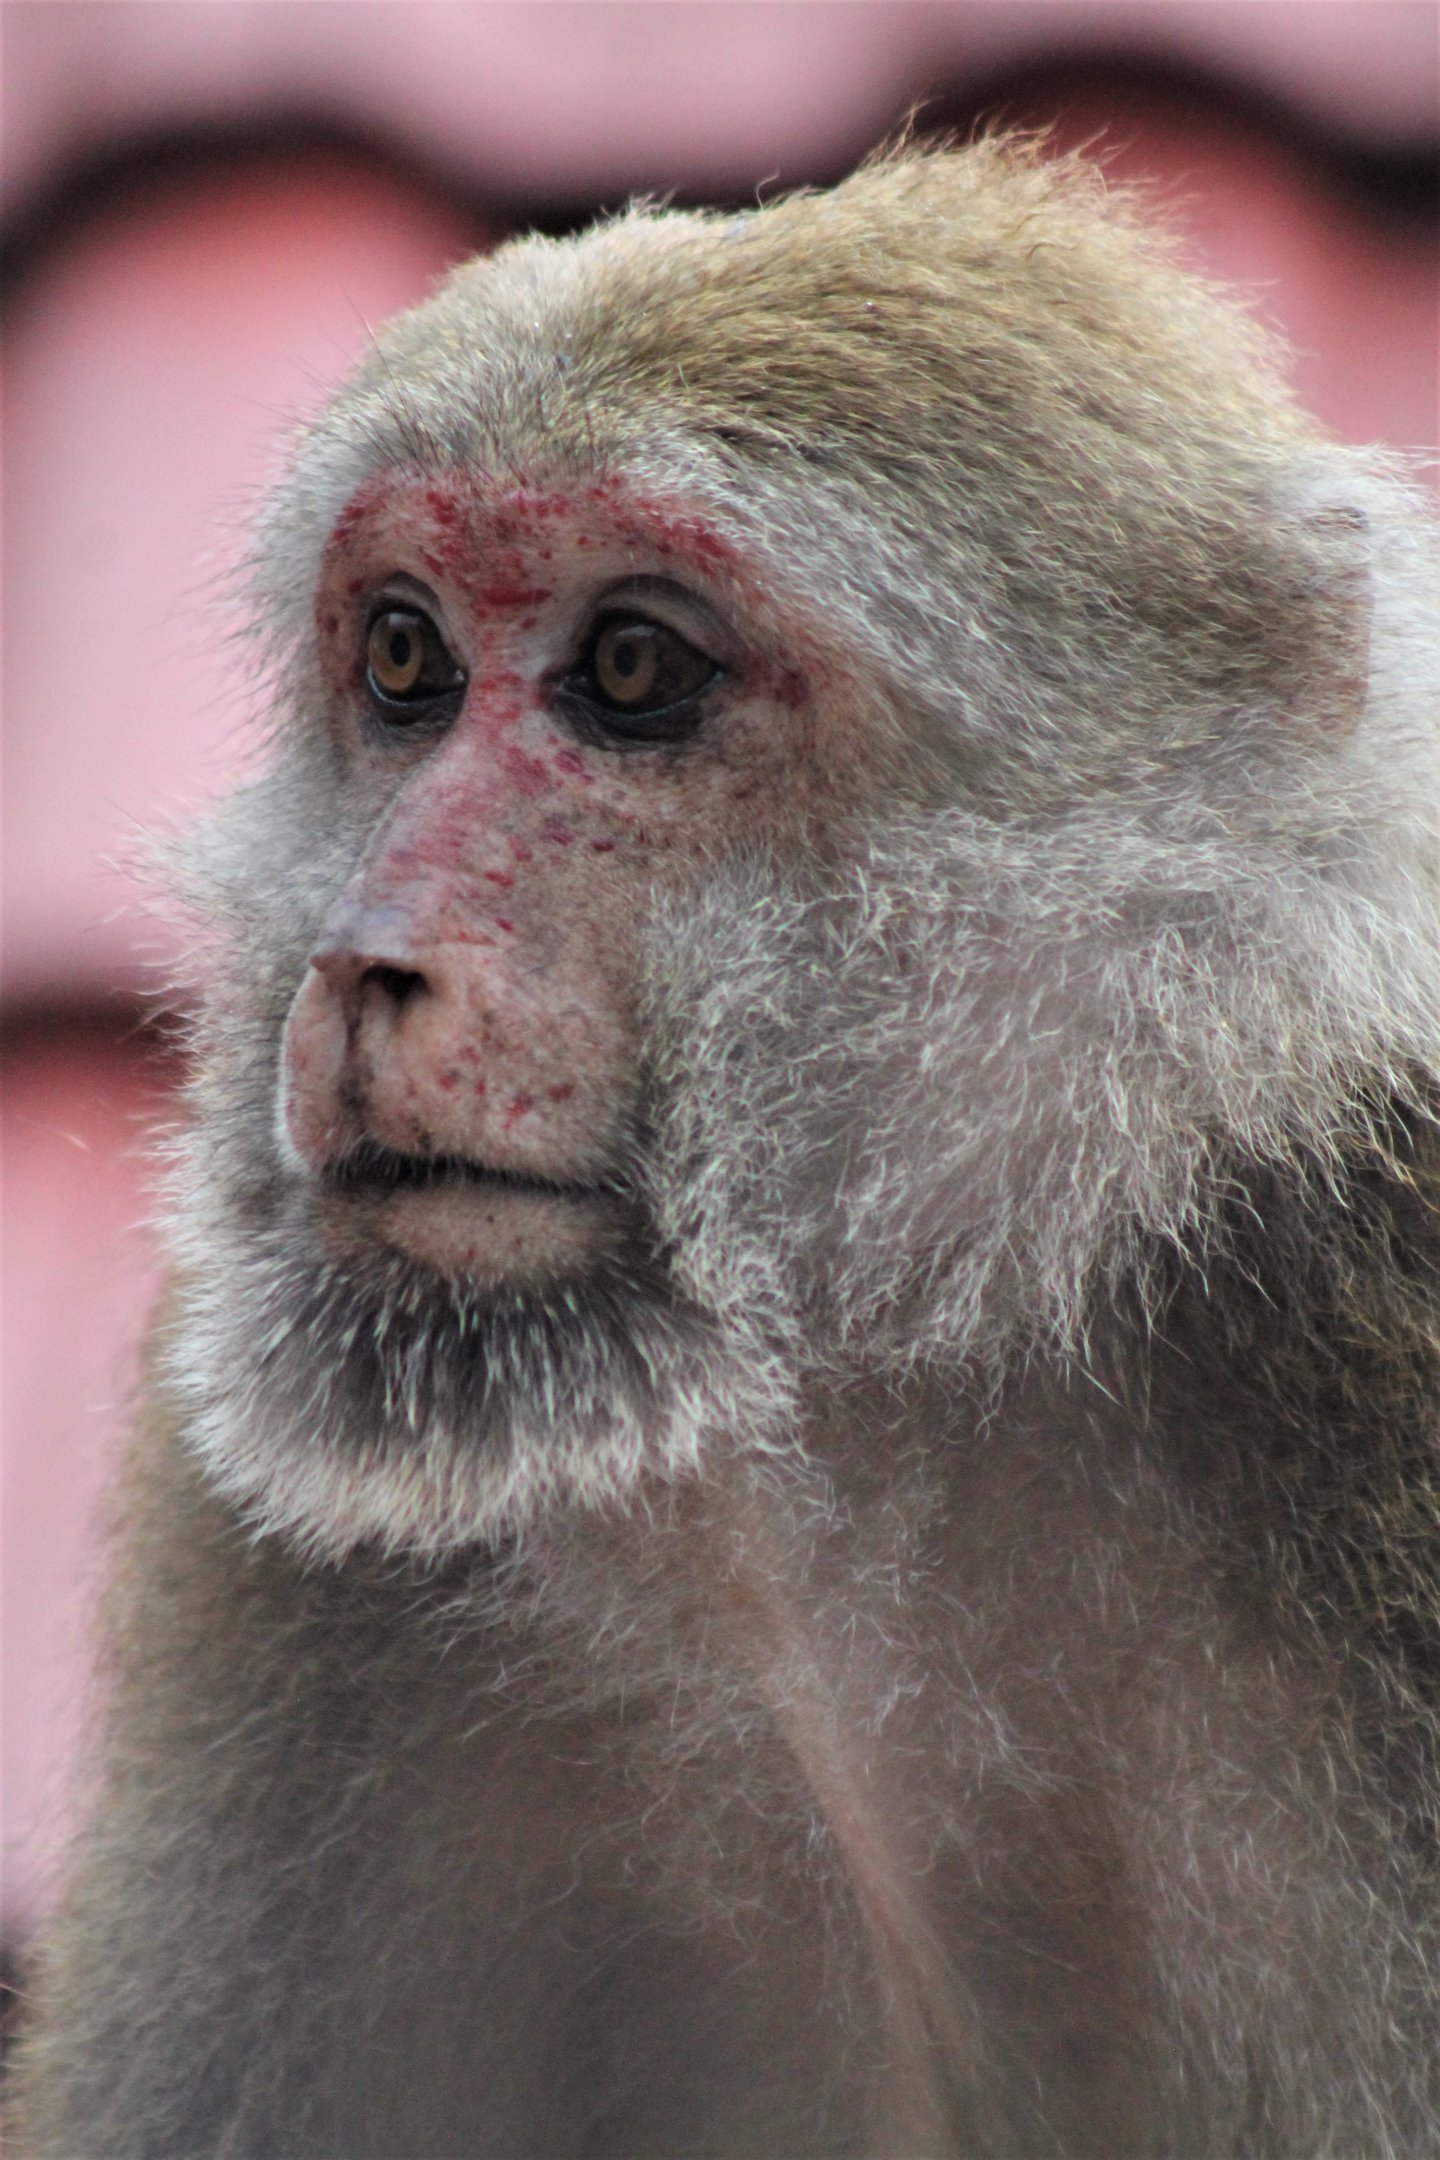monkey: (16, 6, 1430, 2146)
